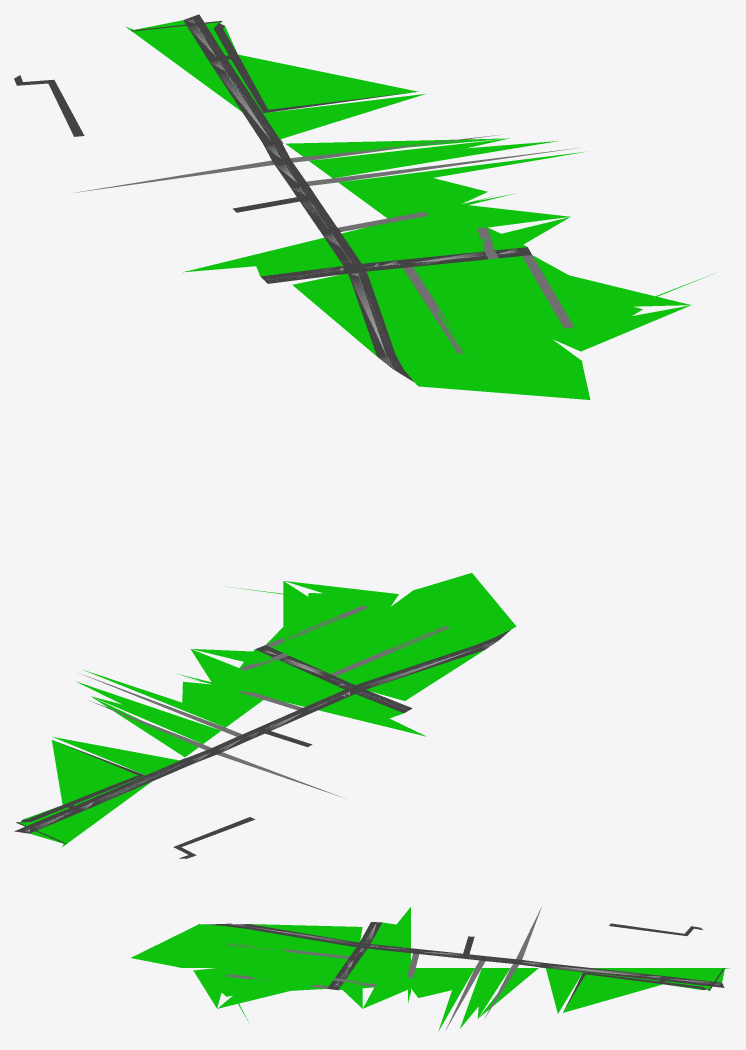
The picture shows the model from 3 angles, top to bottom: view 1: azimuth 30°, elevation 25°; view 2: azimuth 150°, elevation 25°; view 3: azimuth 270°, elevation 25°; orthographic projection. The views are drawn at different scales.
Bounding box in the file's own units: 218 × 0.001 × 444.
